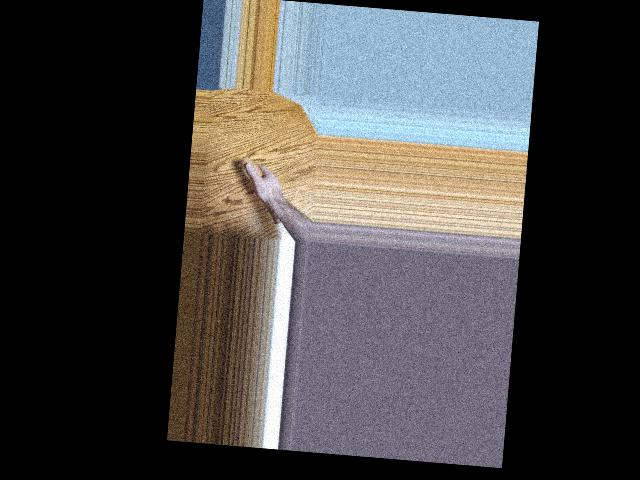sweet_potato: (237, 155, 288, 226)
